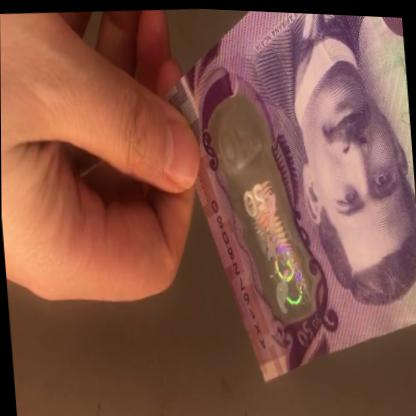50F: (215, 102, 317, 319)
